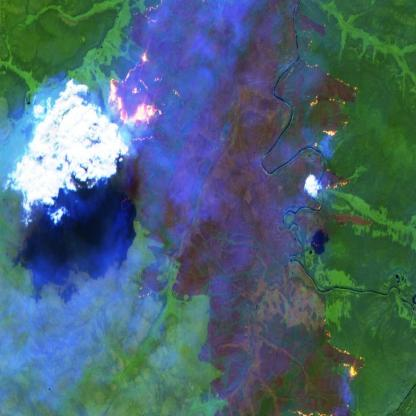fire: (298, 47, 366, 208), (106, 40, 170, 143), (322, 328, 370, 387)
